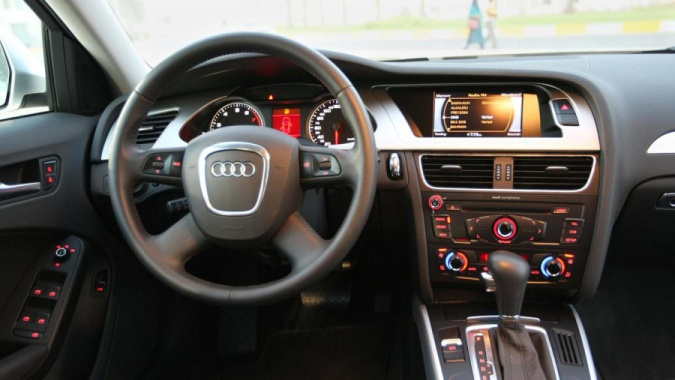audi: (206, 159, 260, 182)
